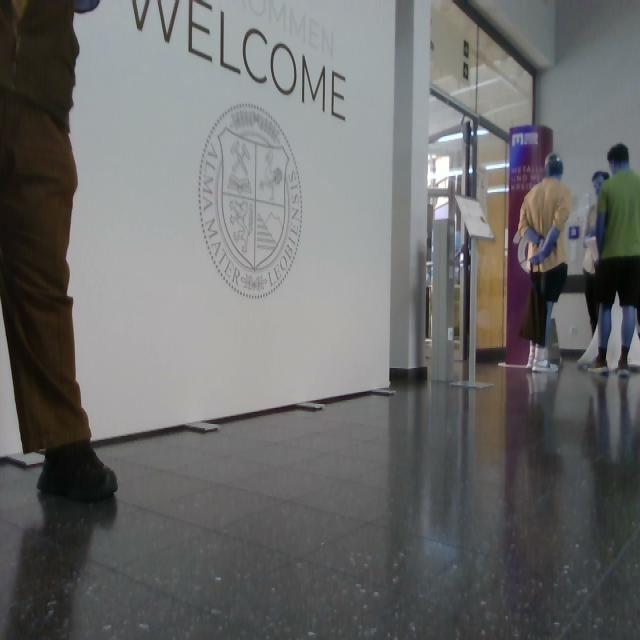light bulb: (198, 104, 303, 300), (518, 229, 541, 274), (73, 1, 100, 14)
person: (1, 1, 119, 504), (586, 142, 640, 377), (518, 153, 573, 373), (582, 171, 610, 339)
tiled floor: (1, 356, 639, 640)
